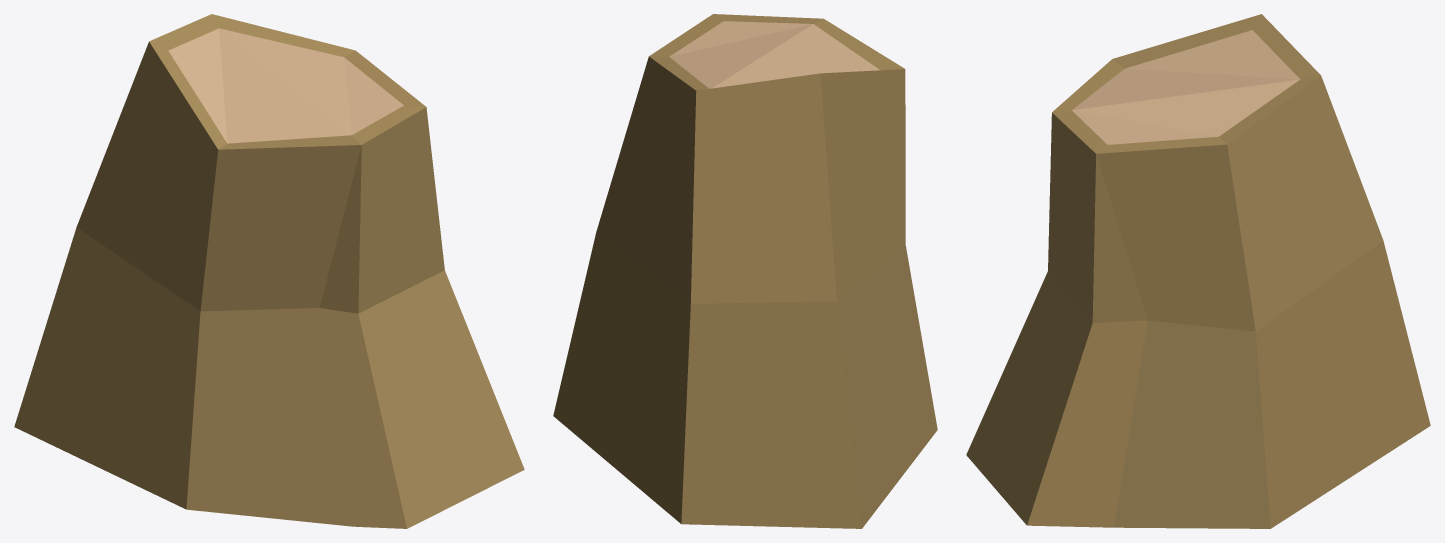
Rendered from Oak_Stump_04.fbx.
3 renders of one model, left to right at view 1: azimuth 30°, elevation 25°; view 2: azimuth 150°, elevation 25°; view 3: azimuth 270°, elevation 25°, orthographic. The views are drawn at different scales.
Parts seen in each view (by area): view 1: Oak_Stump_04; view 2: Oak_Stump_04; view 3: Oak_Stump_04.
Part boxes in pixels (x1=…): Oak_Stump_04: x1=14, y1=14, x2=524, y2=528; Oak_Stump_04: x1=553, y1=14, x2=937, y2=528; Oak_Stump_04: x1=966, y1=14, x2=1430, y2=528.
Bounding box in the file's own units: 96.13 × 106 × 114.
